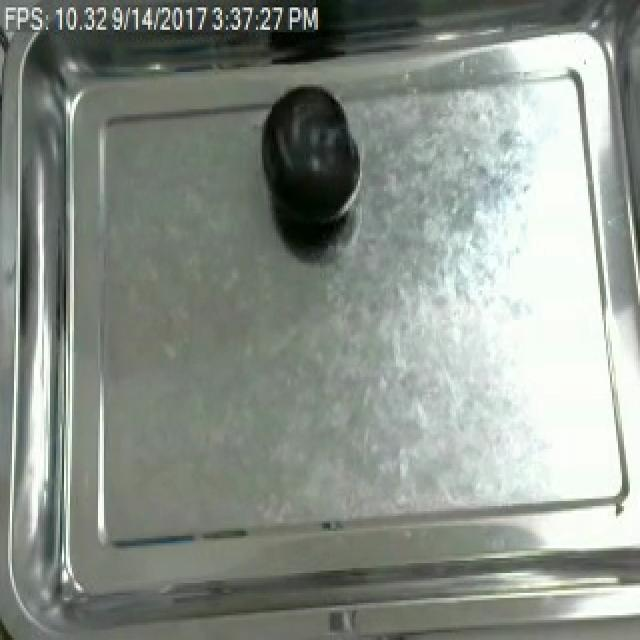Fruit: (254, 82, 362, 248)
